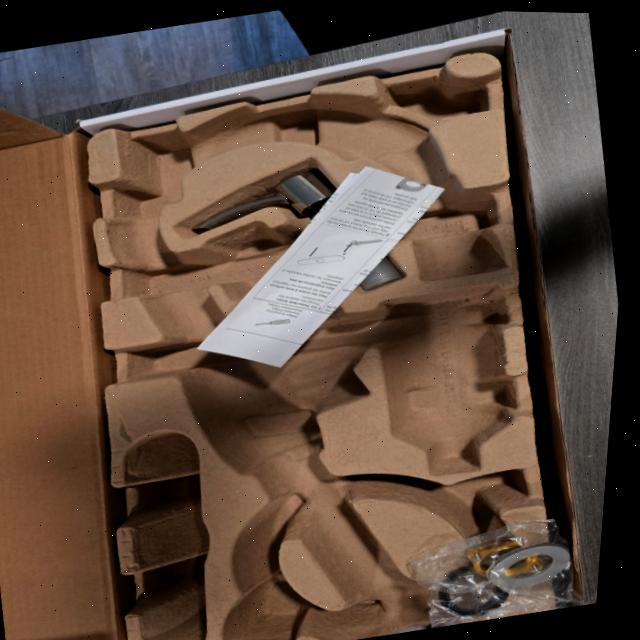1m: (108, 94, 501, 635)
2o: (187, 168, 401, 290)
3m: (383, 286, 510, 474)
4m: (120, 430, 205, 640)
5m: (233, 579, 306, 627)
6: (412, 518, 583, 628)
7m: (405, 469, 520, 536)
8: (194, 166, 445, 367)
